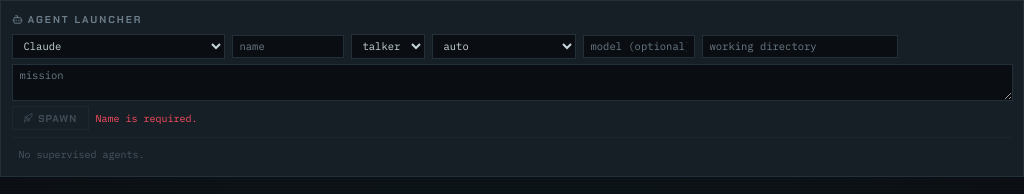
Test: AgentLauncher — working directory field › refuses a relative path before the round trip
The image size is (1024, 194).
Type "alpha" into the field named "Agent name" at (288, 46), box [232,34,344,58]
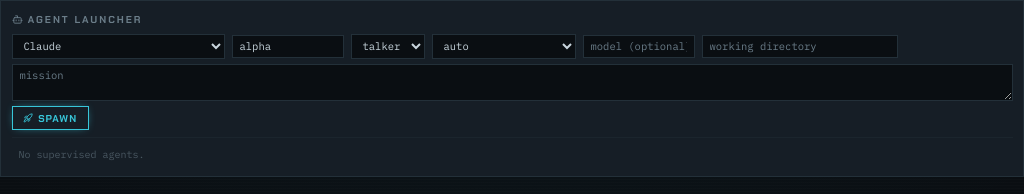
Type "projects/alpha" into the field named "Agent working directory" at (800, 46), box [702,34,898,58]
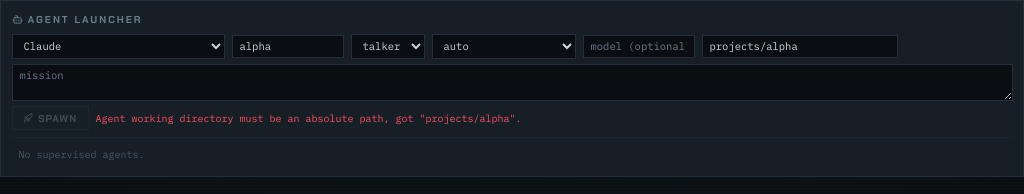
Expected: the text "must be an absolute path" is shown, [96,112,522,124]
Expected: the button with aria-label "Spawn agent" is disabled, [12,106,89,130]
